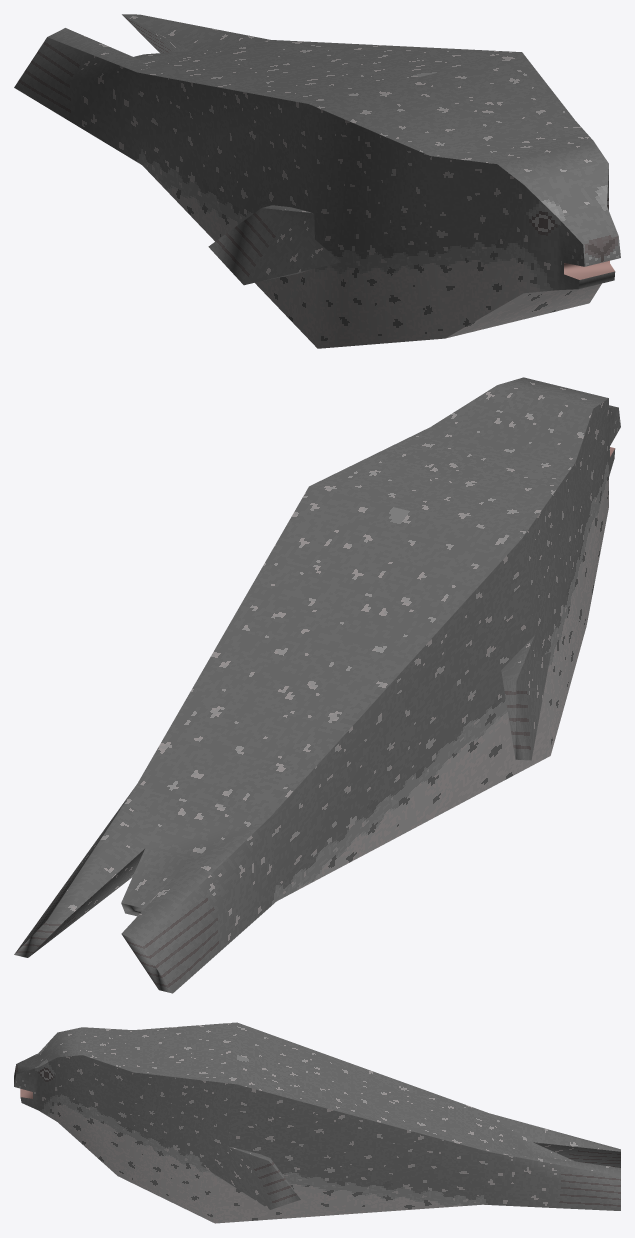
File: 02e8_Seal.glb
The picture shows the model from 3 angles, top to bottom: view 1: azimuth 30°, elevation 25°; view 2: azimuth 150°, elevation 25°; view 3: azimuth 270°, elevation 25°; orthographic projection. The views are drawn at different scales.
Visible parts, largest first — view 1: part_0; view 2: part_0; view 3: part_0.
Part boxes in pixels (x1,y1,x2,y2): part_0: (14,14,620,348); part_0: (14,377,620,993); part_0: (14,1022,620,1223).
Bounding box in the file's own units: 0.5921 × 0.459 × 1.7.
Materials: 1 (1 with a texture image).
